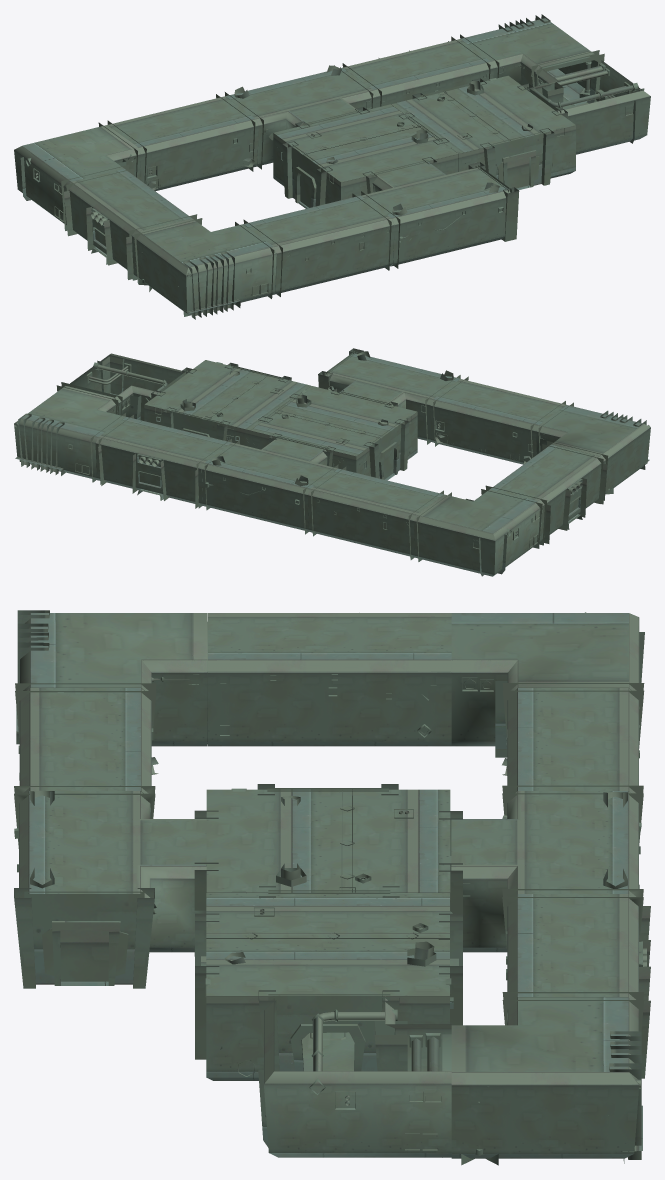
File: Combined_Mesh_root_scene__5_130fafea__zombies2_diffuse_09_d56e2e54_c1f257.obj
The picture shows the model from 3 angles, top to bottom: view 1: azimuth 30°, elevation 25°; view 2: azimuth 150°, elevation 25°; view 3: azimuth 270°, elevation 25°; orthographic projection. The views are drawn at different scales.
Bounding box in the file's own units: 92.31 × 9.64 × 52.29.
178 materials, 178 textured.
